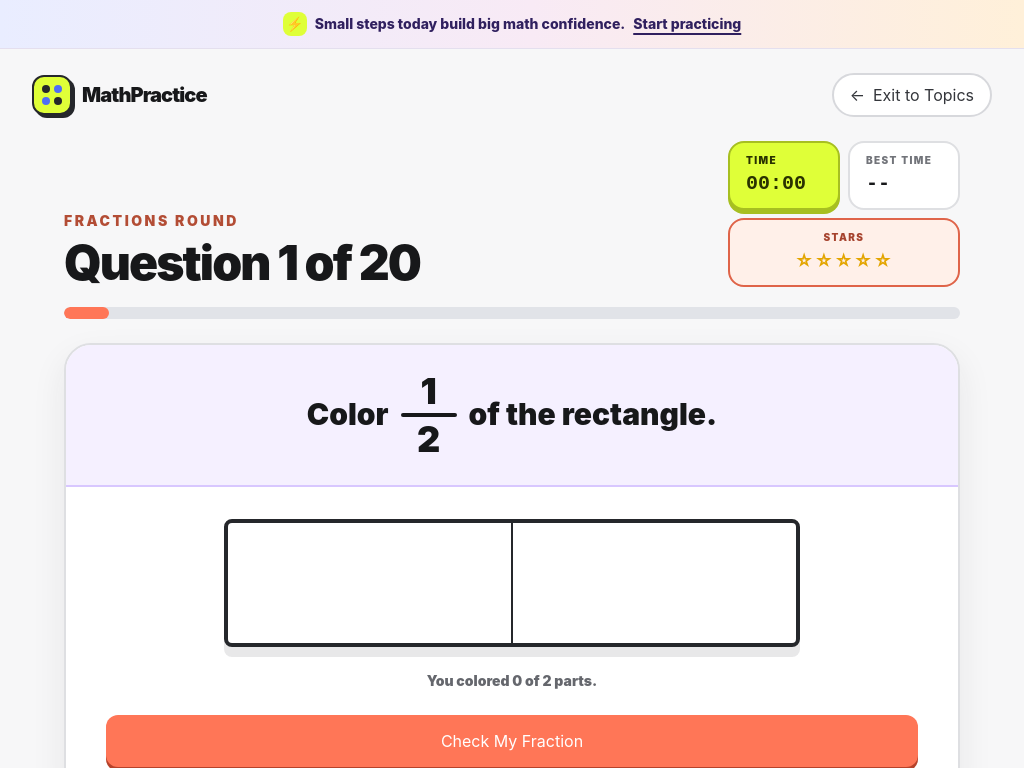
Scenario: Fractions practice round › lets the child shade and unshade equal parts
Expected: the heading named "Color 1/2 of the rectangle." is shown, [307,373,717,457]
Click the button named "Part 1 of 2": {"x": 370, "y": 583} [228,523,511,643]
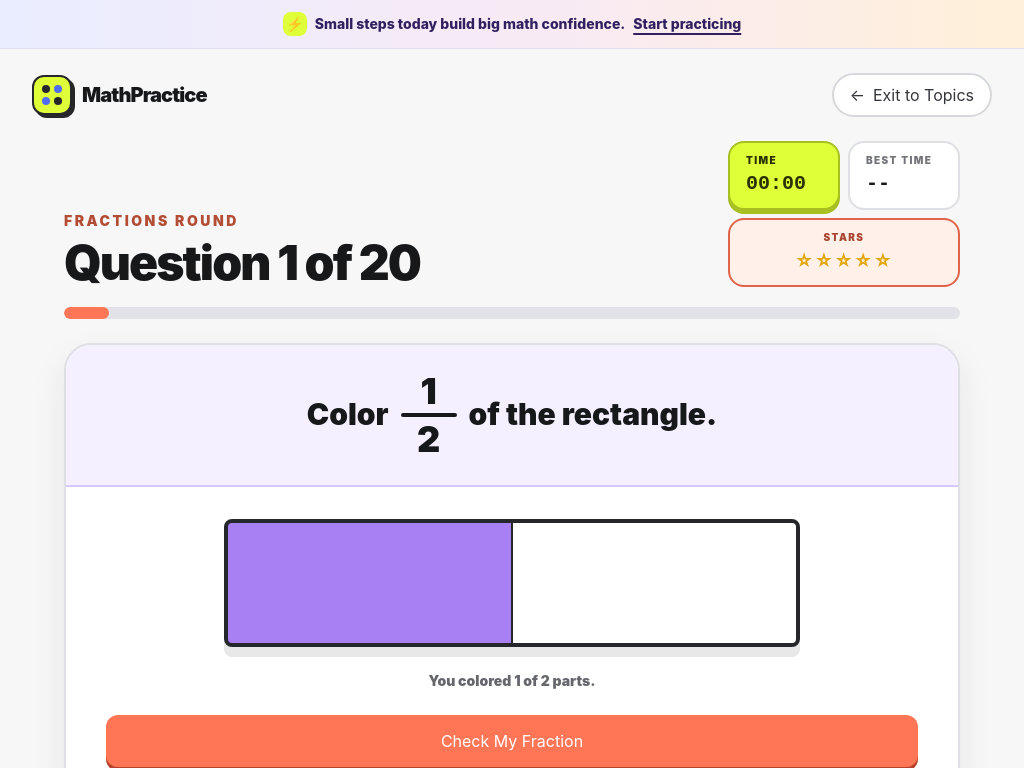
Result: the text "You colored 1 of 2 parts." is shown at [428,672,595,689]
Click the button named "Part 1 of 2": {"x": 370, "y": 583} [228,523,511,643]
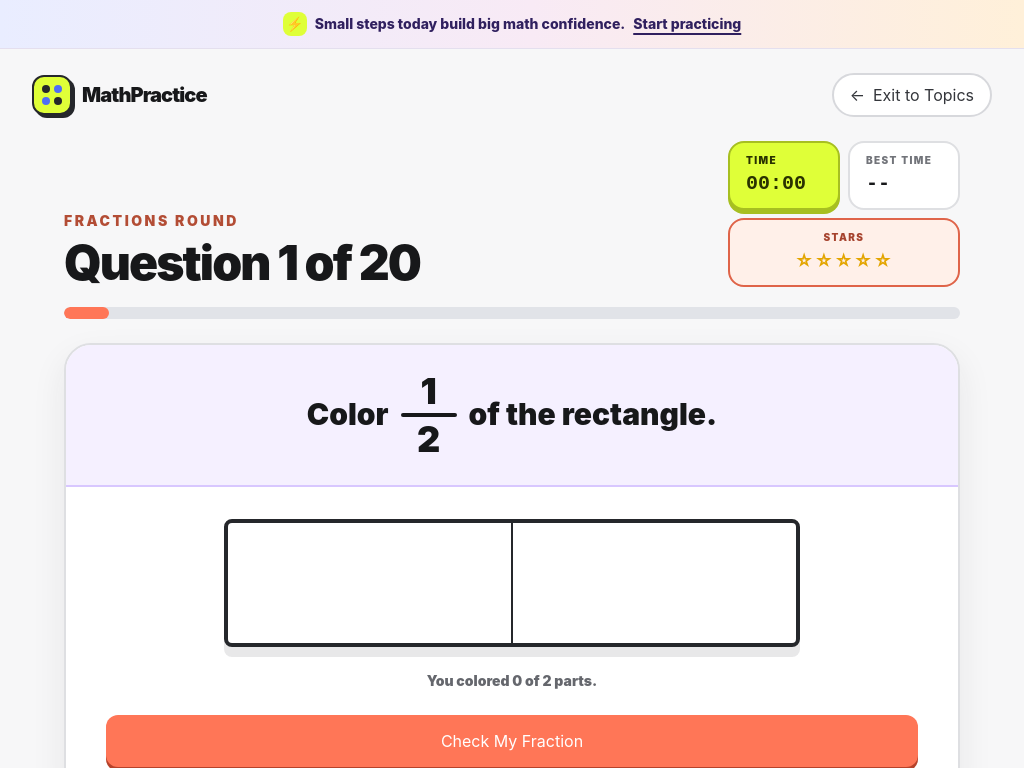
Result: the text "You colored 0 of 2 parts." is shown at [427,672,597,689]
